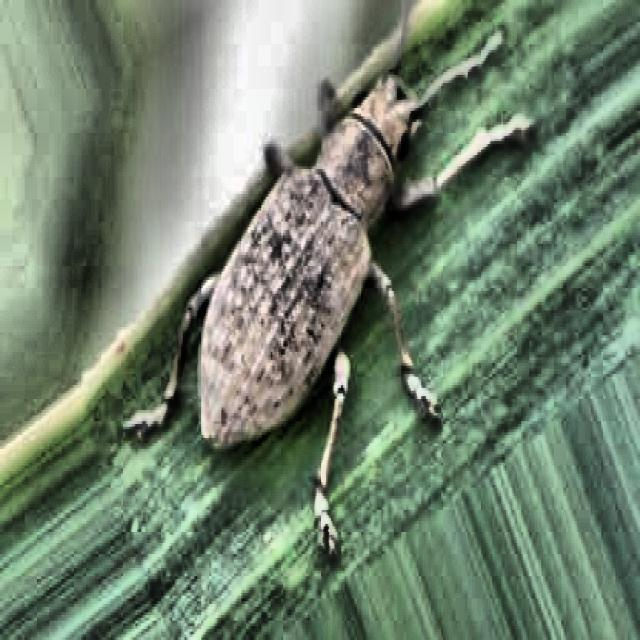Stink bug: (122, 0, 475, 529)
